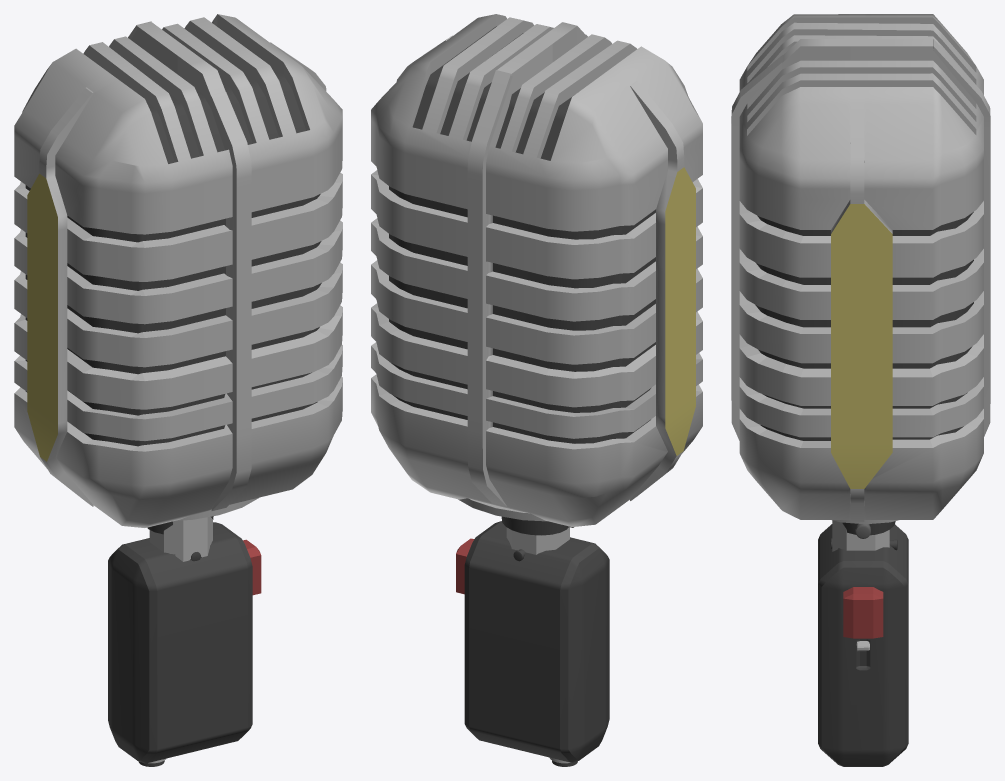
Rendered from micfbx.fbx.
3 views of the same model, side by side, from view 1: azimuth 30°, elevation 25°; view 2: azimuth 150°, elevation 25°; view 3: azimuth 270°, elevation 25° (orthographic).
Visible parts, largest first — view 1: pSphere4; view 2: pSphere4; view 3: pSphere4.
Part boxes in pixels (box(x1,y1,x2,y2)): pSphere4: box(14, 14, 342, 766); pSphere4: box(371, 14, 702, 766); pSphere4: box(731, 14, 990, 766).
Size of the model in its own units: 7.1 by 17.08 by 5.64.
